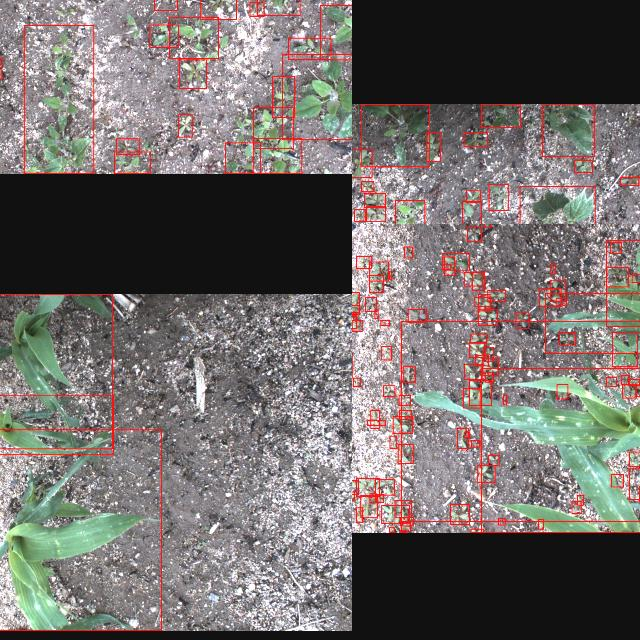crop: (400, 320, 640, 521), (0, 429, 161, 630), (481, 367, 640, 532), (0, 293, 111, 448), (0, 395, 112, 454), (544, 293, 640, 353), (519, 185, 594, 224), (541, 104, 593, 156)
weed: (23, 26, 93, 174), (281, 54, 352, 140), (360, 104, 430, 166), (606, 240, 640, 326), (168, 18, 218, 58), (252, 138, 302, 174), (320, 5, 352, 60), (253, 108, 293, 148), (224, 142, 260, 174), (480, 104, 520, 128), (288, 38, 330, 60), (272, 76, 294, 118), (612, 332, 636, 366), (114, 152, 150, 174), (178, 60, 206, 88), (148, 24, 178, 48), (394, 200, 424, 224), (200, 0, 236, 19), (257, 0, 299, 15), (469, 380, 491, 406), (352, 149, 371, 177), (488, 184, 508, 210), (381, 506, 409, 524), (442, 252, 468, 270), (461, 200, 480, 224), (355, 478, 379, 497), (606, 267, 628, 287), (538, 288, 560, 306), (425, 132, 439, 160), (115, 139, 139, 155), (449, 505, 468, 525), (359, 496, 376, 518), (628, 468, 640, 499), (462, 388, 480, 408), (368, 262, 388, 280), (392, 416, 412, 434), (463, 132, 487, 146), (365, 206, 385, 222), (549, 280, 565, 300), (477, 309, 497, 325), (374, 479, 394, 495), (178, 115, 192, 137), (394, 500, 411, 518), (463, 364, 482, 380), (482, 358, 498, 376), (364, 193, 384, 207), (462, 272, 482, 286), (398, 444, 412, 464), (466, 226, 482, 242), (468, 342, 484, 358), (478, 466, 494, 482), (369, 274, 383, 292), (407, 308, 425, 322), (153, 0, 176, 10), (457, 428, 468, 448), (574, 160, 592, 172), (472, 272, 484, 290), (487, 290, 505, 302), (444, 256, 454, 276), (249, 2, 263, 16), (622, 384, 636, 398), (558, 332, 574, 344), (516, 312, 528, 328), (364, 296, 376, 312), (402, 366, 414, 382), (628, 451, 640, 466), (478, 294, 489, 310), (465, 190, 479, 202), (556, 384, 568, 398), (474, 354, 488, 366), (356, 256, 370, 268), (620, 177, 638, 186), (369, 410, 378, 428), (483, 346, 493, 362), (611, 475, 623, 487), (470, 333, 486, 342), (381, 346, 391, 360), (474, 298, 491, 306), (352, 292, 358, 314), (361, 181, 373, 191), (354, 209, 364, 221), (382, 386, 394, 396), (398, 410, 410, 420), (398, 395, 409, 405), (367, 420, 385, 426), (610, 242, 620, 252), (488, 455, 498, 465), (400, 522, 410, 532), (352, 320, 361, 331), (572, 502, 580, 514), (404, 246, 412, 258), (400, 518, 412, 526), (606, 378, 616, 387), (352, 480, 358, 495), (389, 436, 396, 448), (356, 508, 362, 522), (631, 273, 640, 282), (621, 375, 629, 385), (555, 298, 565, 306), (484, 372, 492, 382), (470, 440, 480, 448), (352, 378, 360, 387), (375, 494, 383, 502), (635, 385, 640, 397), (628, 379, 638, 385), (577, 495, 583, 505), (379, 320, 388, 326), (369, 493, 375, 502), (352, 315, 356, 328), (352, 305, 359, 312), (470, 529, 482, 533), (498, 518, 504, 526), (550, 264, 554, 274), (502, 395, 506, 405), (538, 520, 542, 530), (463, 432, 469, 438), (442, 264, 450, 268), (388, 271, 392, 279), (374, 310, 378, 318), (388, 528, 394, 532), (352, 313, 356, 319), (400, 531, 406, 533)
